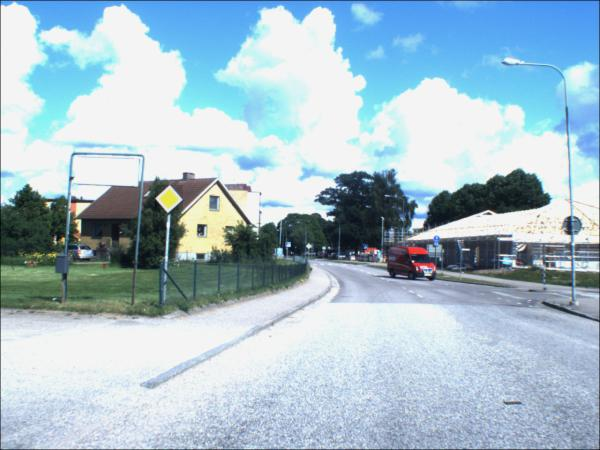PEDESTRIAN_CROSSING: (286, 244, 292, 250), (363, 246, 368, 252)
PRIORITY_ROAD: (155, 186, 184, 215), (305, 245, 312, 251)
